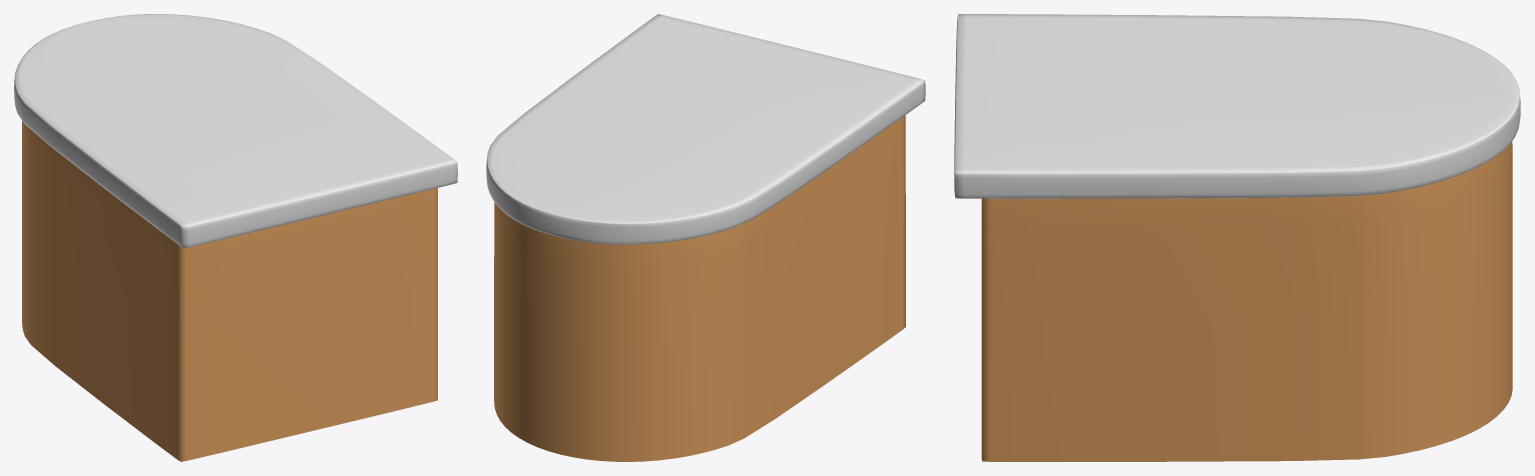
Rendered from base redonda.fbx.
The picture shows the model from 3 angles, left to right: view 1: azimuth 30°, elevation 25°; view 2: azimuth 150°, elevation 25°; view 3: azimuth 270°, elevation 25°; orthographic projection. The views are drawn at different scales.
Visible parts, largest first — view 1: Cylinder.048; view 2: Cylinder.048; view 3: Cylinder.048.
Part boxes in pixels (x1=…): Cylinder.048: x1=14, y1=14, x2=457, y2=461; Cylinder.048: x1=486, y1=14, x2=925, y2=461; Cylinder.048: x1=954, y1=14, x2=1520, y2=461.
Bounding box in the file's own units: 1050 × 900 × 1571.
